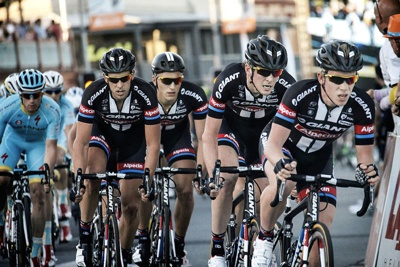helmet: (242, 38, 290, 96), (98, 47, 135, 99)
